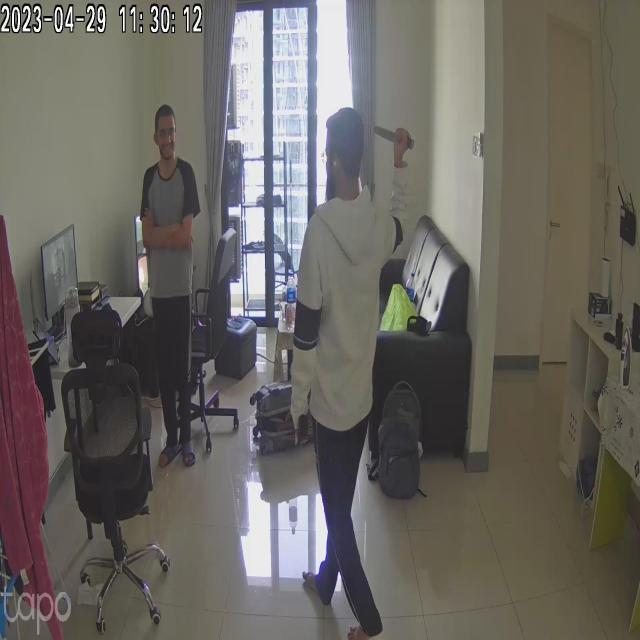Knife: (372, 116, 424, 161)
